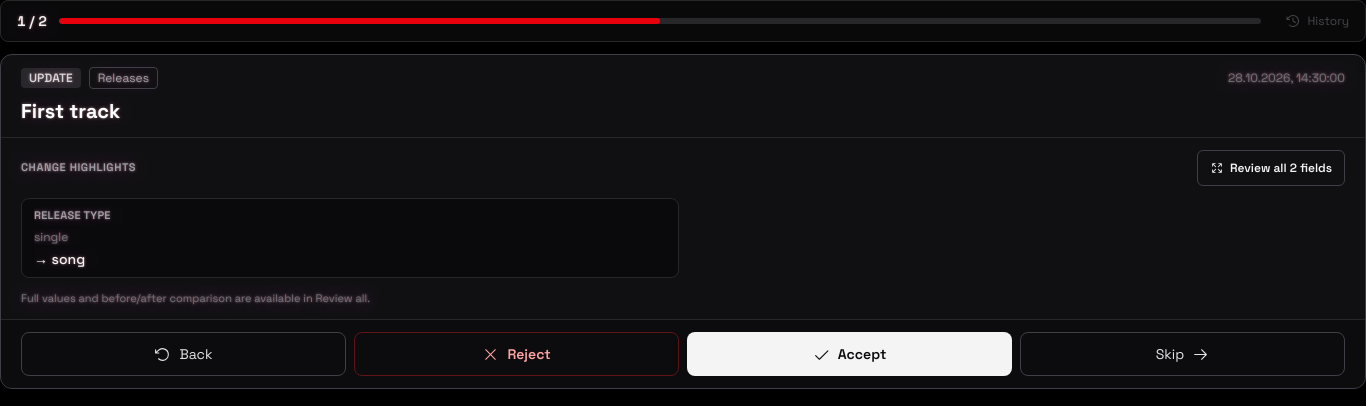
Test: AI content review carousel › allows rapid decisions on different proposals without duplicate submissions
Click the button "Accept": (850, 354) [687,332,1012,376]
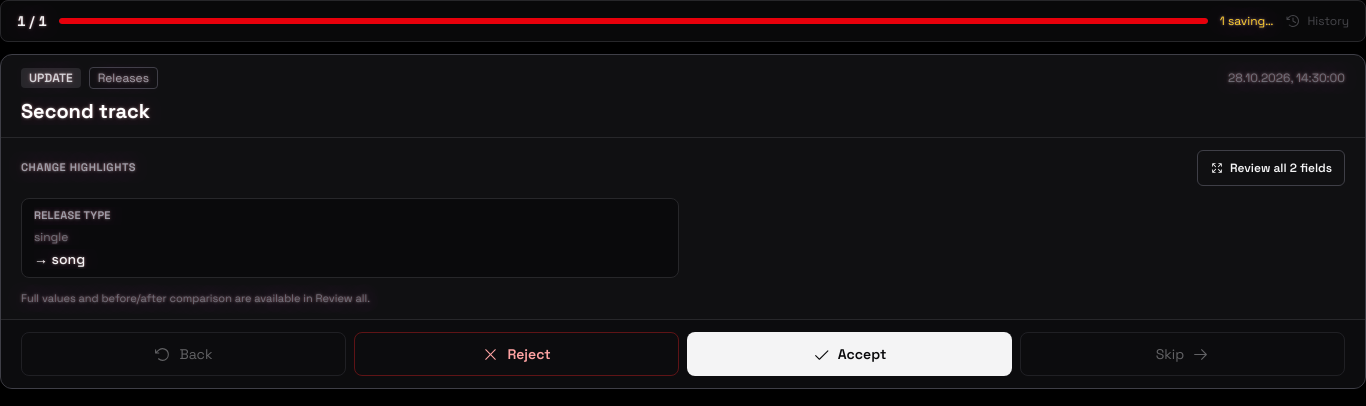
Click the button "Reject": (516, 354) [354,332,679,376]
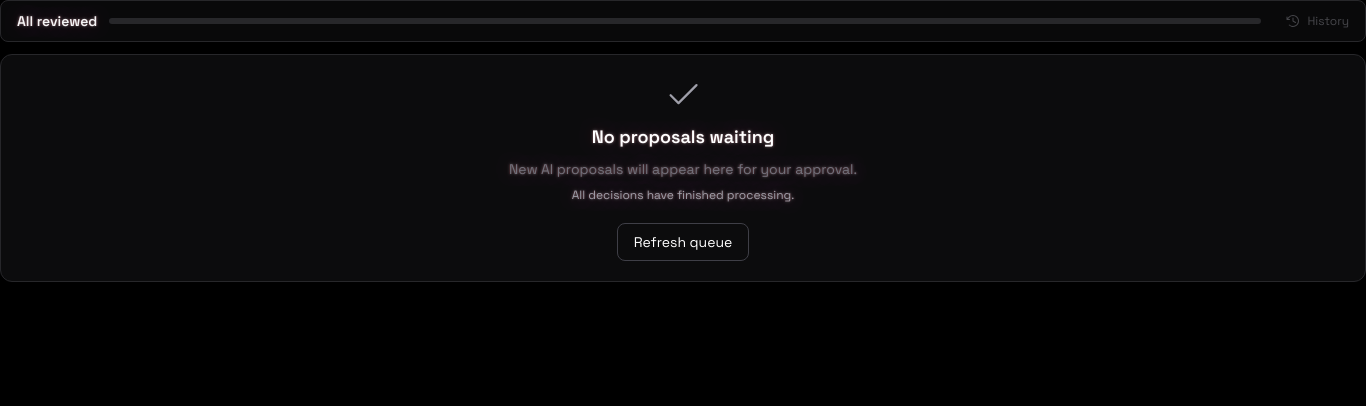
Expected: the text "All reviewed" is shown, [17,11,97,31]
